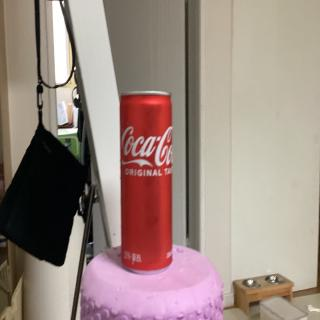cocacola: (115, 88, 180, 274)
